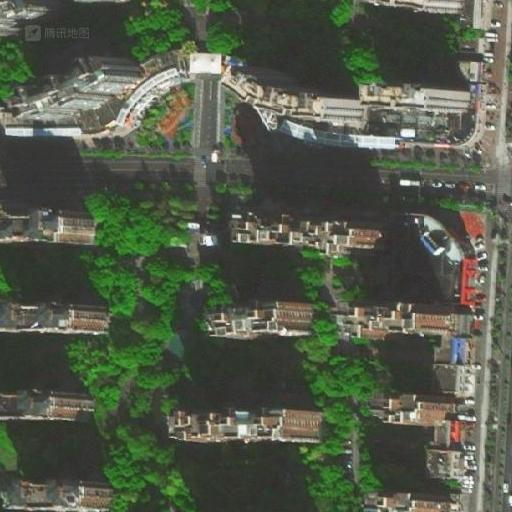building: (239, 72, 470, 129), (3, 57, 142, 124), (246, 216, 387, 255), (177, 405, 323, 440), (372, 294, 465, 336), (215, 302, 315, 336), (368, 392, 456, 427), (25, 308, 106, 335), (12, 393, 93, 420), (12, 214, 93, 241), (32, 483, 110, 510), (361, 492, 455, 512), (438, 333, 468, 389), (434, 446, 463, 485), (187, 52, 224, 78), (456, 60, 485, 88)
